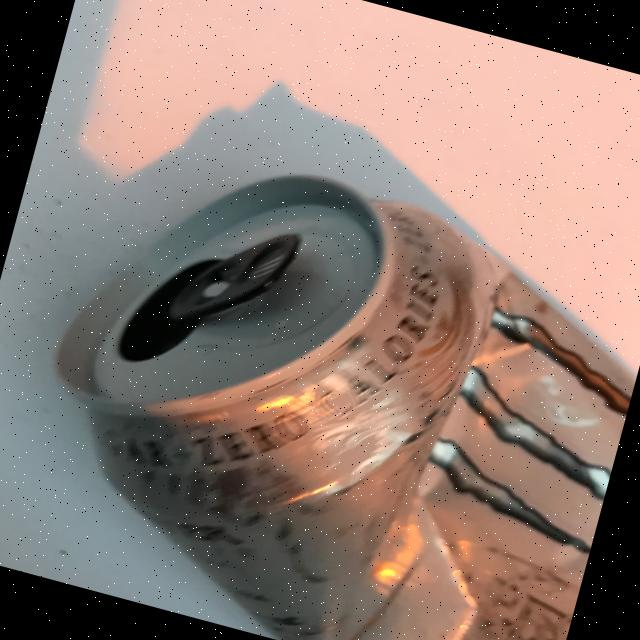metal: (0, 118, 640, 640)
